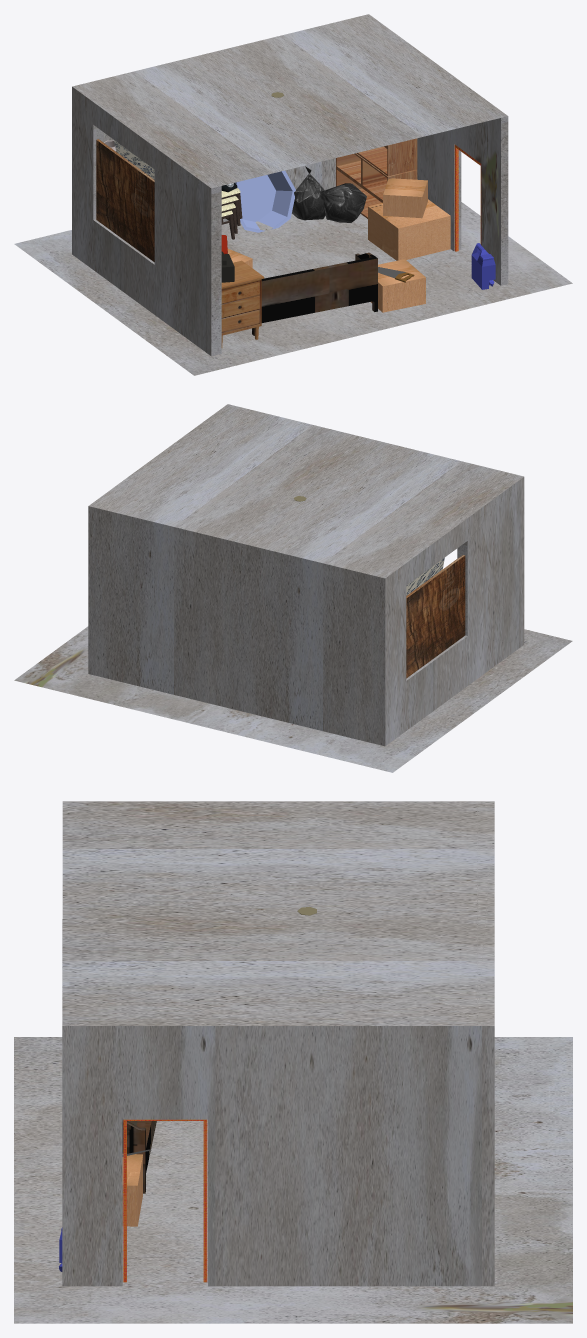
The model's file is Bodega.glb.
3 renders of one model, top to bottom at view 1: azimuth 30°, elevation 25°; view 2: azimuth 150°, elevation 25°; view 3: azimuth 270°, elevation 25°, orthographic. The views are drawn at different scales.
Parts seen in each view (by area): view 1: Bodega, Floor, Armchair_07, Cube.002, Cube, Balde.001, Chest_drawers_03, Drawerulit, Cube.001, Cube.003, Drawerulit.001, Garbage_bags.001 (+3 smaller); view 2: Bodega, Floor, Cube.002; view 3: Bodega, Floor, jamb door.001, Cube.001, Armchair_07.
Part boxes in pixels (bbox=[...]): Bodega: bbox=[72, 14, 508, 356]; Floor: bbox=[14, 202, 572, 375]; Armchair_07: bbox=[252, 252, 377, 335]; Cube.002: bbox=[96, 139, 154, 262]; Cube: bbox=[368, 199, 450, 260]; Balde.001: bbox=[235, 170, 295, 232]; Chest_drawers_03: bbox=[221, 260, 264, 347]; Drawerulit: bbox=[336, 153, 417, 218]; Cube.001: bbox=[371, 259, 425, 312]; Cube.003: bbox=[383, 178, 427, 218]; Drawerulit.001: bbox=[356, 138, 417, 176]; Garbage_bags.001: bbox=[314, 183, 366, 222]; Bodega: bbox=[88, 404, 524, 746]; Floor: bbox=[14, 626, 572, 772]; Cube.002: bbox=[406, 555, 465, 678]; Bodega: bbox=[62, 801, 494, 1286]; Floor: bbox=[14, 1037, 572, 1323]; jamb door.001: bbox=[123, 1119, 207, 1282]; Cube.001: bbox=[122, 1154, 142, 1226]; Armchair_07: bbox=[122, 1120, 156, 1193].
Size of the model in its own units: 8.38 by 3.66 by 6.91.
Materials: 22 (20 with a texture image).
